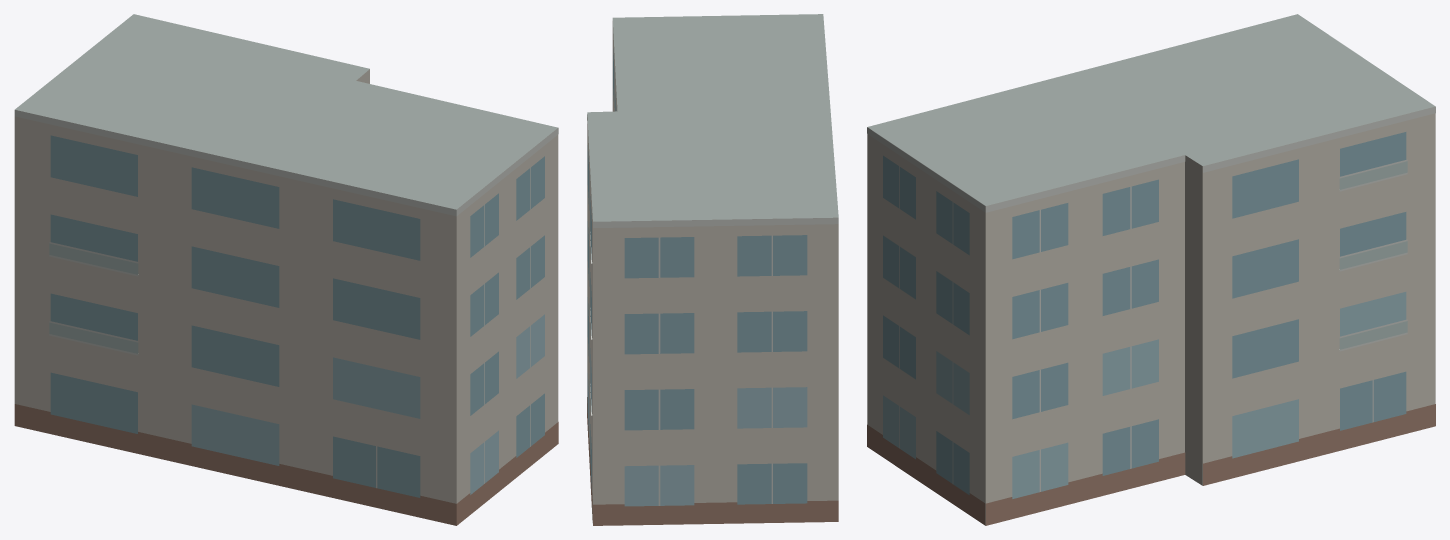
The model's file is survey-upis-33002574.glb.
3 views of the same model, side by side, from view 1: azimuth 30°, elevation 25°; view 2: azimuth 150°, elevation 25°; view 3: azimuth 270°, elevation 25° (orthographic). The views are drawn at different scales.
Parts seen in each view (by area): view 1: survey-upis-33002574.tmp; view 2: survey-upis-33002574.tmp; view 3: survey-upis-33002574.tmp.
Part boxes in pixels (x1,y1,x2,y2): survey-upis-33002574.tmp: (14,14,558,525); survey-upis-33002574.tmp: (587,14,838,525); survey-upis-33002574.tmp: (867,14,1435,525).
Bounding box in the file's own units: 14.96 × 11.6 × 18.71.
